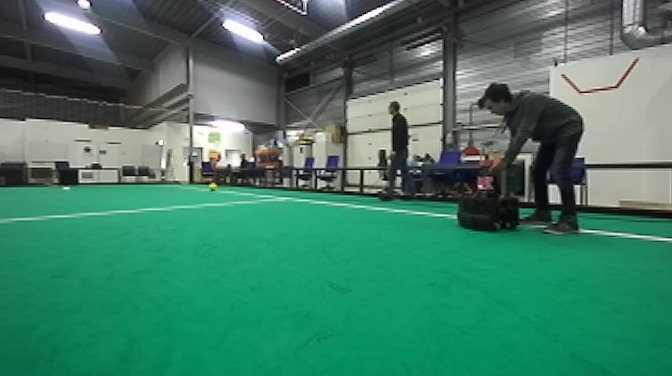ball: (207, 181, 217, 193)
human: (484, 75, 590, 245), (384, 99, 414, 205)
robot: (456, 135, 517, 233)
